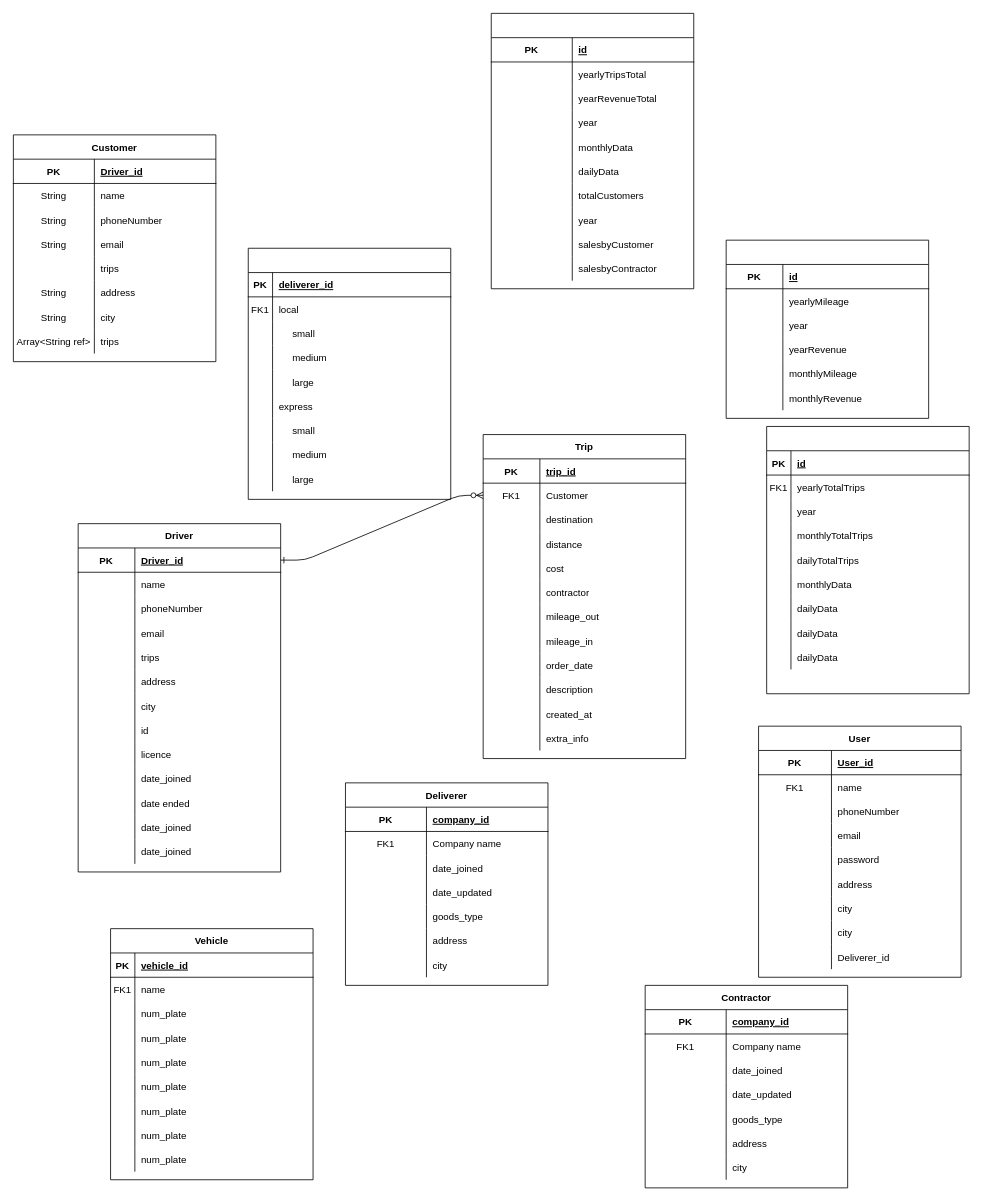
Some shapes in this 983 by 1201 pixel diagram are drawn without their labels. The shapes that lost their labels are listed below. From the top down, each one's box as (x1, y1, x2, y2) in pixels, then its label:
(490, 13, 694, 289): OverallStats
(725, 239, 929, 418): DriverStat
(247, 247, 451, 499): Rates
(766, 426, 969, 694): TripStat
